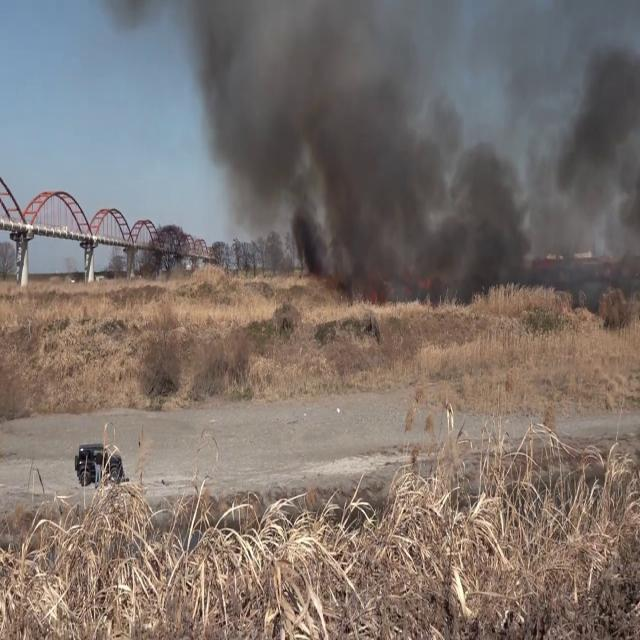Smoke: (184, 1, 558, 304), (548, 7, 640, 288)
